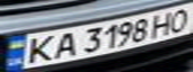1: (100, 21, 121, 50)
3: (78, 25, 103, 53)
8: (130, 15, 154, 43)
9: (115, 19, 139, 46)
A: (48, 29, 81, 60)
H: (148, 10, 178, 38)
K: (18, 34, 63, 65)
O: (163, 6, 193, 33)
